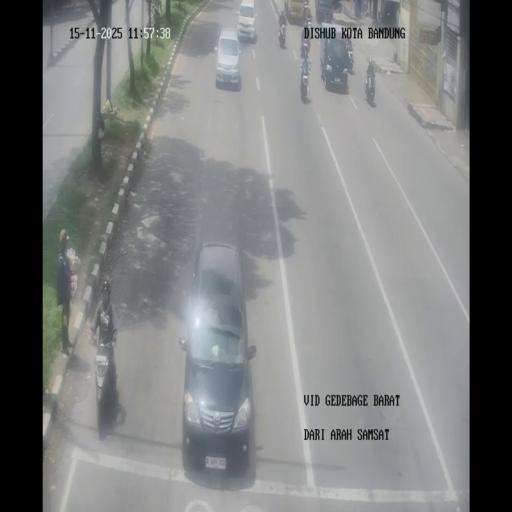car: (180, 242, 258, 480), (320, 24, 352, 90), (215, 26, 242, 88), (236, 0, 258, 42), (284, 0, 309, 25), (315, 0, 333, 24)
truck: (93, 332, 119, 437), (364, 62, 376, 104), (300, 69, 310, 102), (278, 21, 287, 48), (305, 17, 313, 45), (346, 44, 354, 72), (331, 0, 342, 11), (378, 8, 382, 22)
